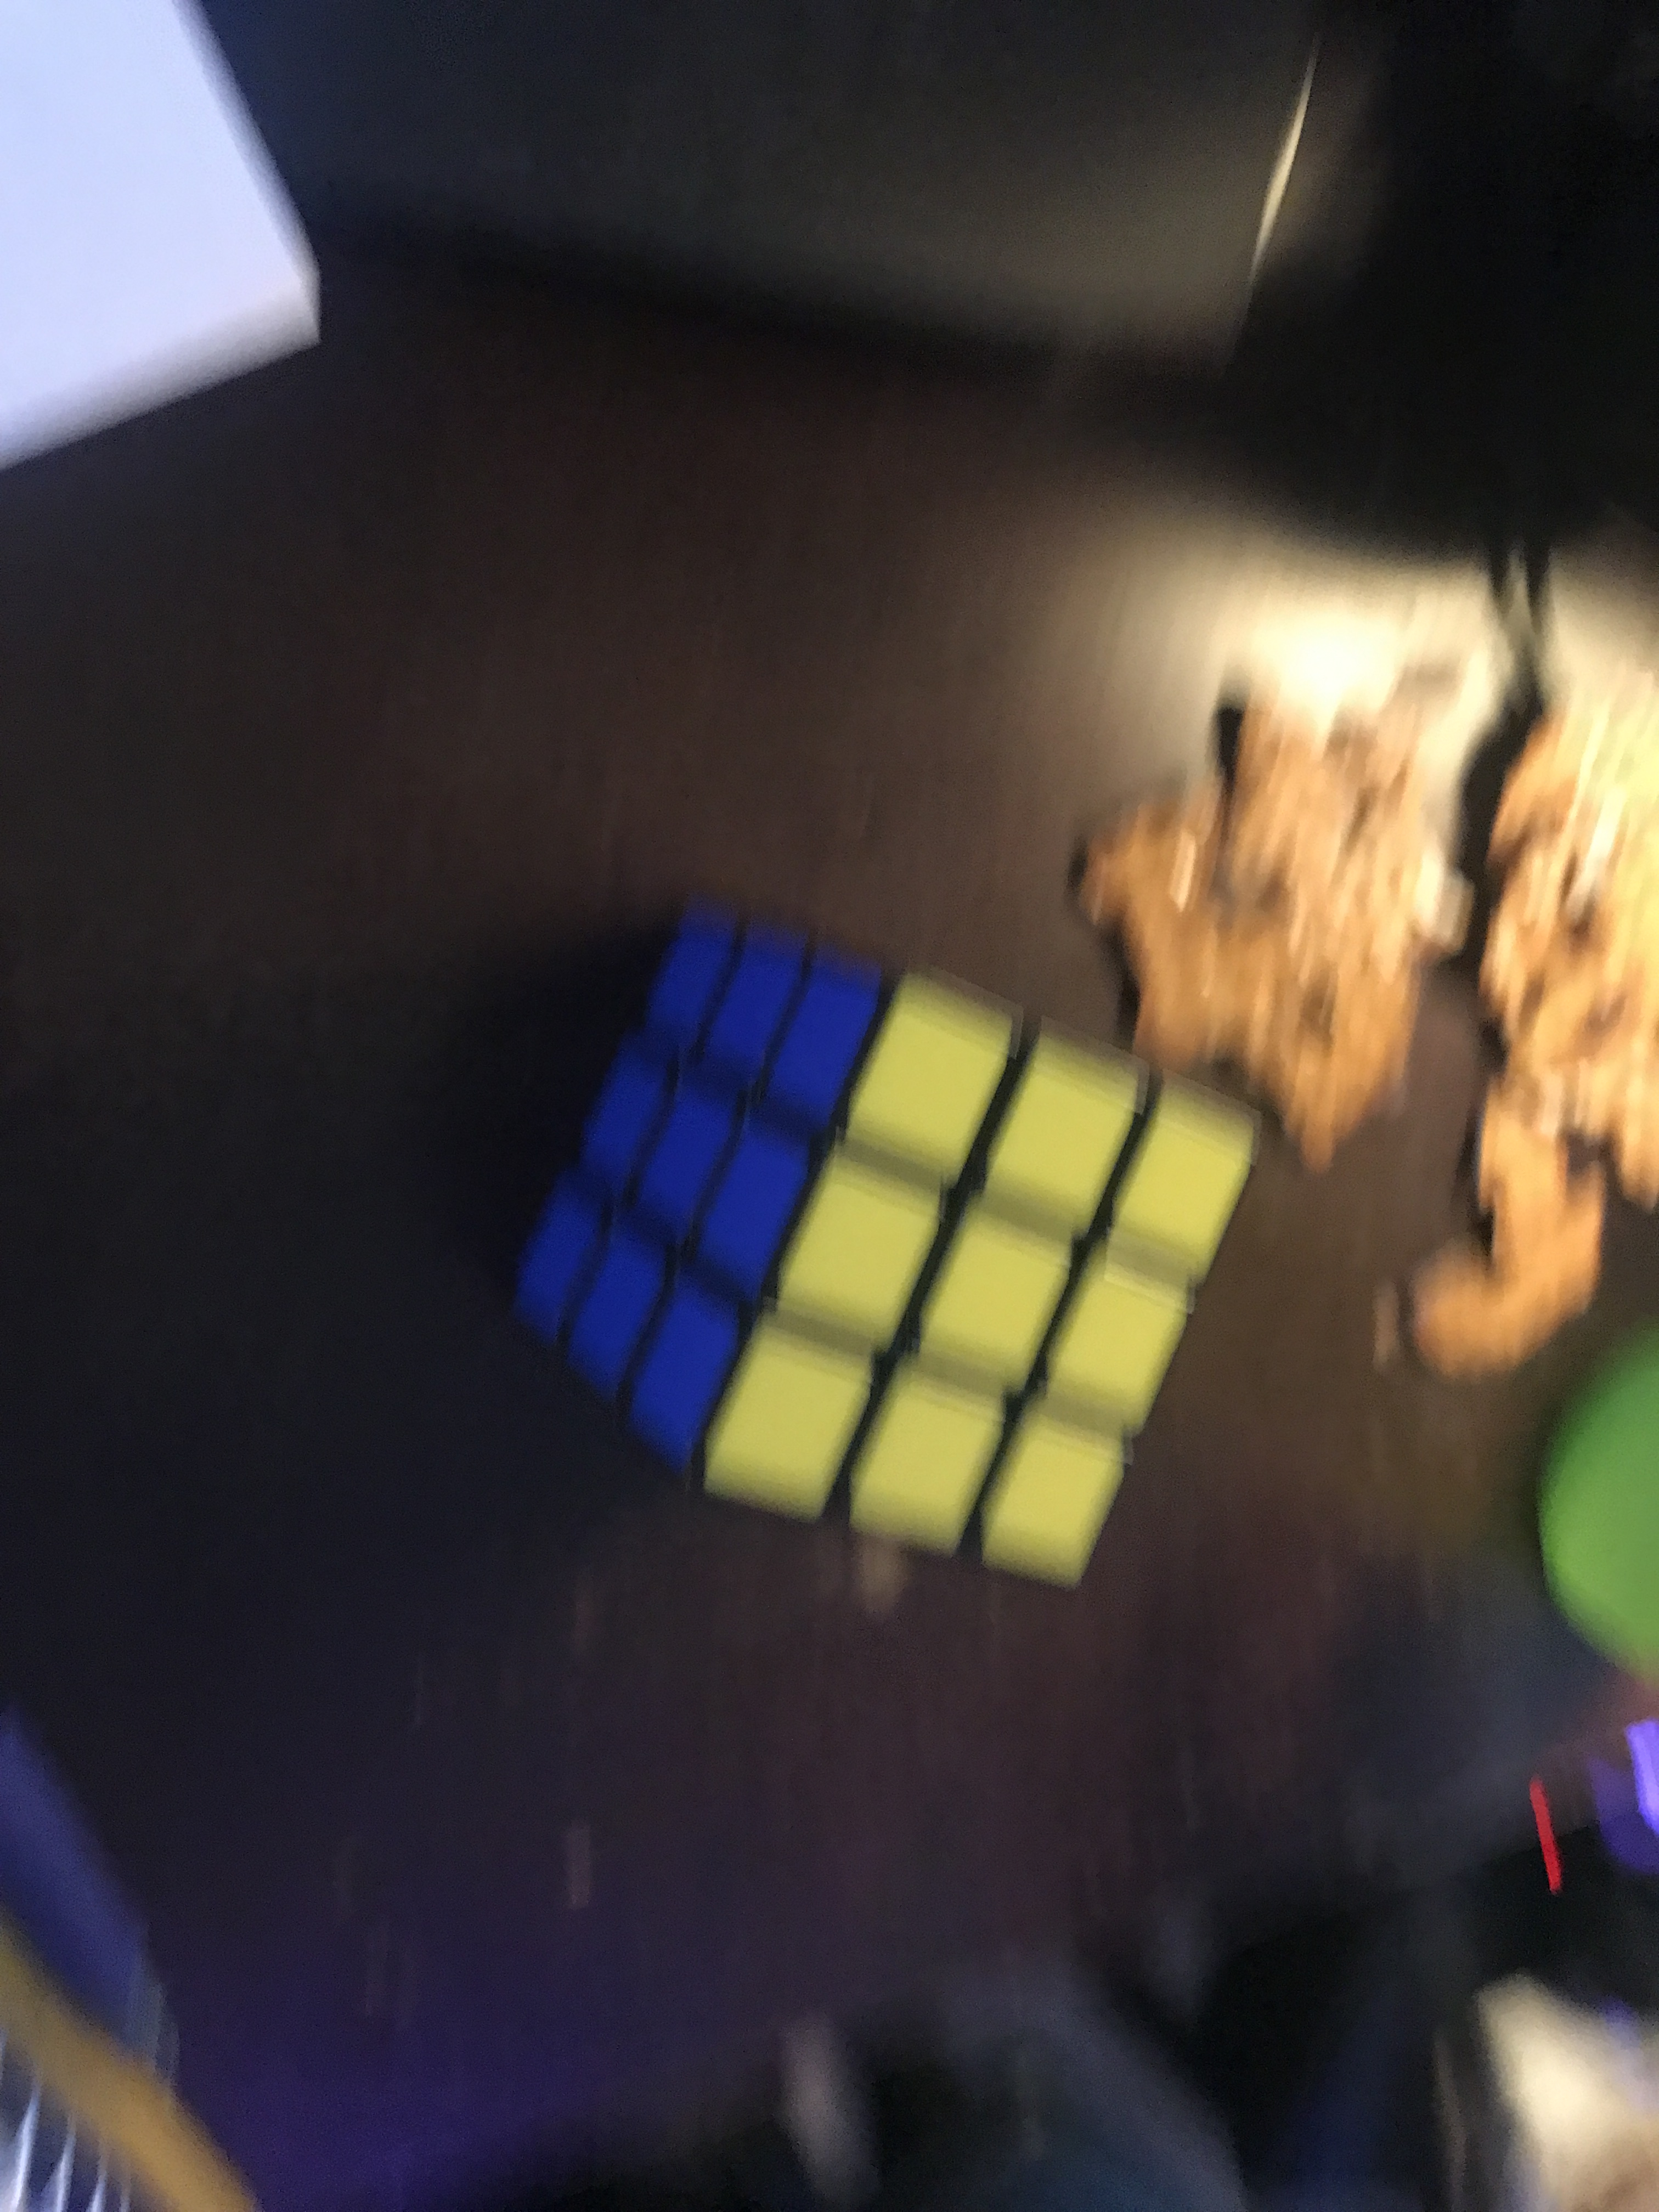rubiks: (519, 880, 1256, 1604)
